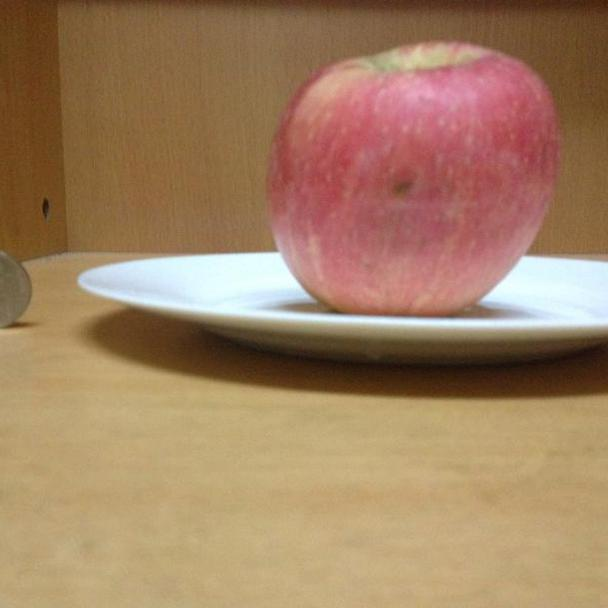apple: (265, 39, 561, 316)
